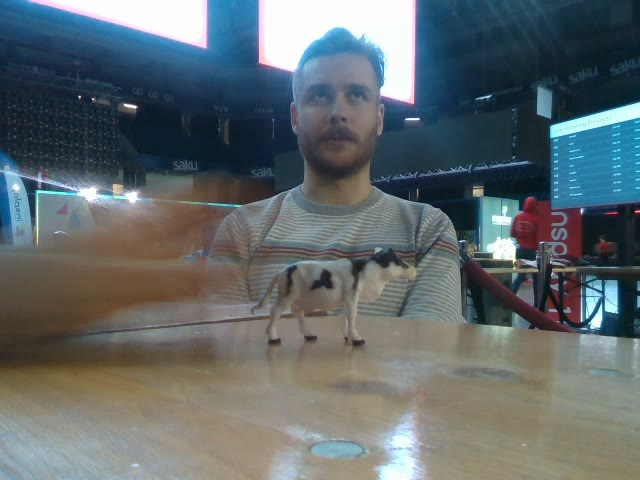toy: (247, 246, 417, 347)
